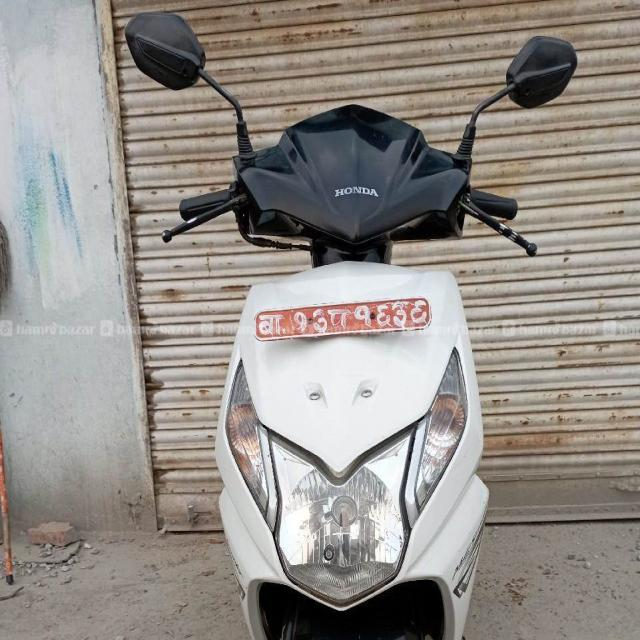License-plate: (250, 302, 434, 338)
